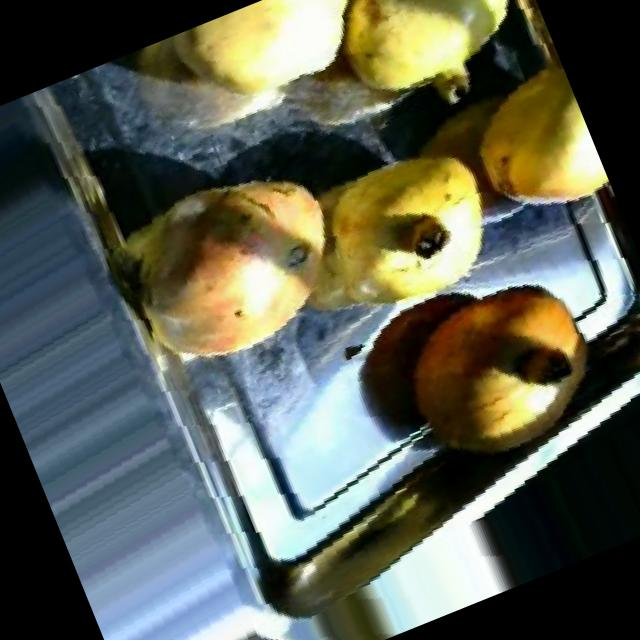fruit: (88, 132, 381, 402), (362, 240, 636, 502), (283, 117, 524, 346), (156, 0, 404, 146), (299, 0, 546, 141), (442, 54, 616, 245)
